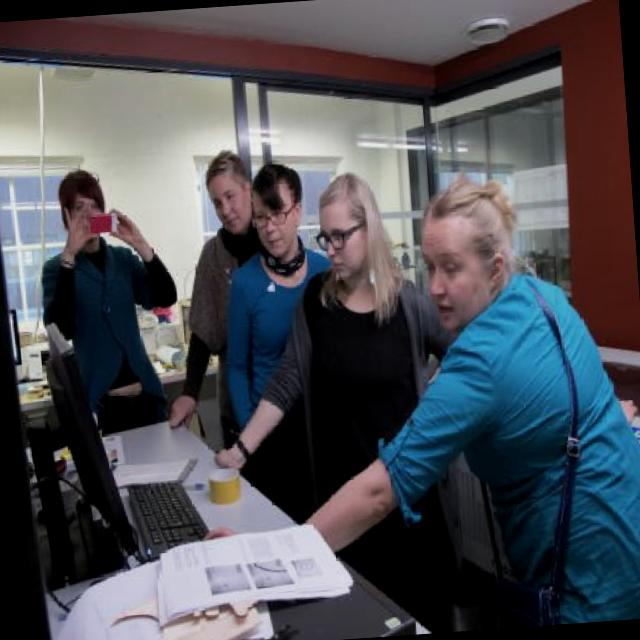Person: (170, 158, 640, 640), (196, 161, 483, 640), (217, 155, 351, 522), (30, 162, 191, 440), (148, 148, 284, 469), (616, 396, 638, 422)
